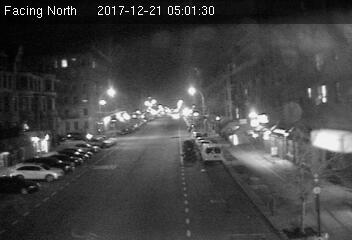truck: (200, 143, 224, 165)
